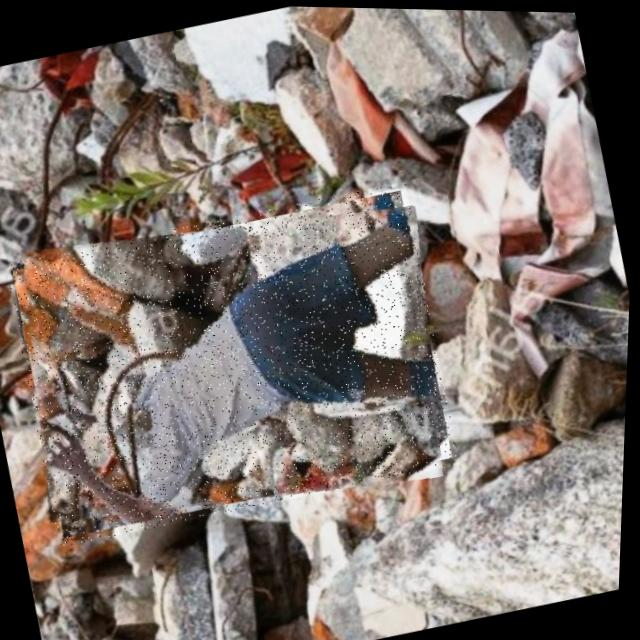Person in Rubble: (0, 171, 471, 552)
